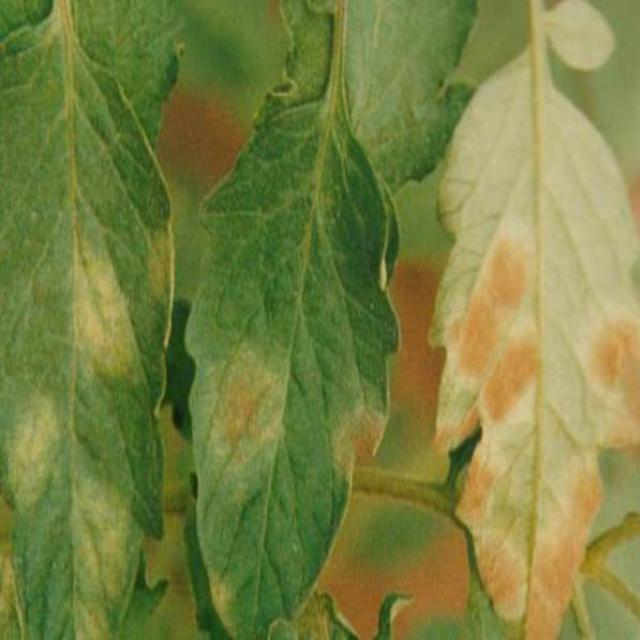Leaf_Mold: (429, 121, 640, 640), (194, 335, 289, 472), (66, 225, 141, 386), (70, 468, 137, 640), (7, 389, 64, 519), (322, 395, 390, 484), (206, 558, 245, 631)
